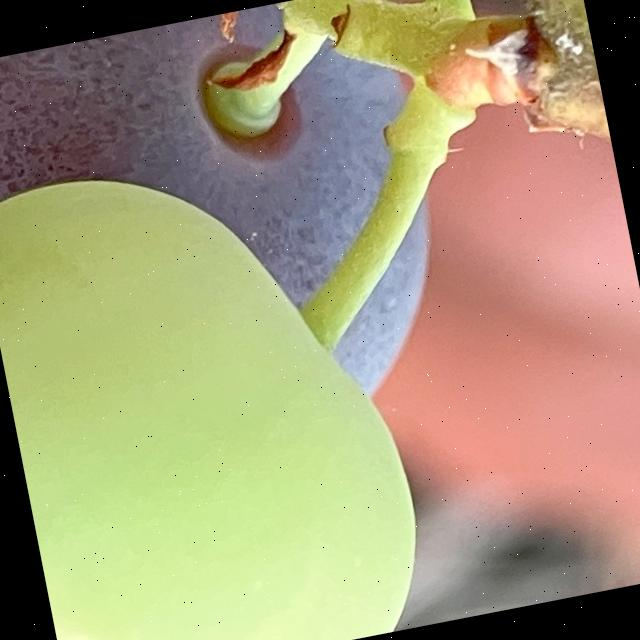Blueberries: (0, 87, 472, 640)
